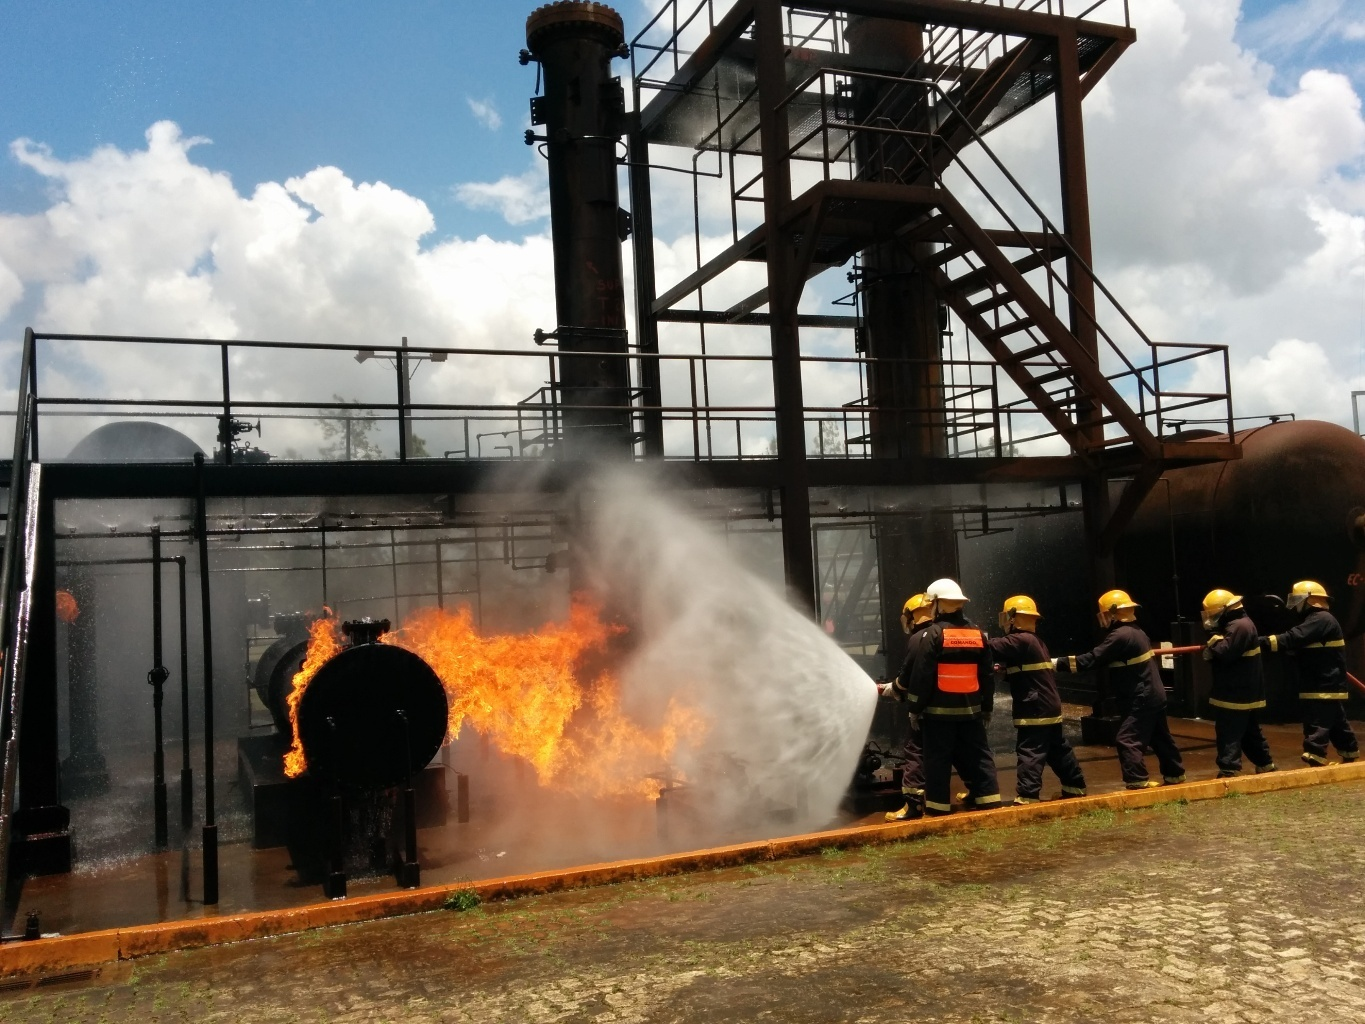fire: (302, 594, 699, 799), (279, 606, 346, 780)
